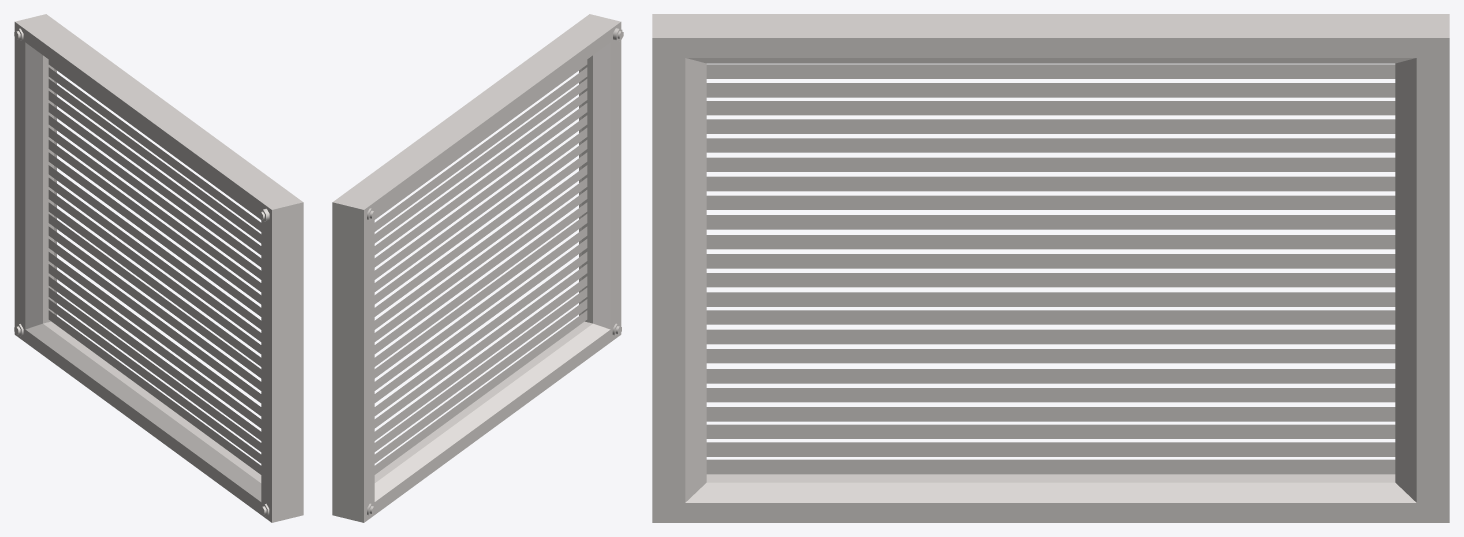
Rendered from VentObjectif.fbx.
3 renders of one model, left to right at view 1: azimuth 30°, elevation 25°; view 2: azimuth 150°, elevation 25°; view 3: azimuth 270°, elevation 25°, orthographic. The views are drawn at different scales.
Visible parts, largest first — view 1: Vent; view 2: Vent; view 3: Vent.
Boxes of the visible parts, x1,y1,x2,y2 form: Vent: (14,14,303,522); Vent: (332,14,623,522); Vent: (652,14,1449,522).
Size of the model in its own units: 4.62 by 55.46 by 37.24.
